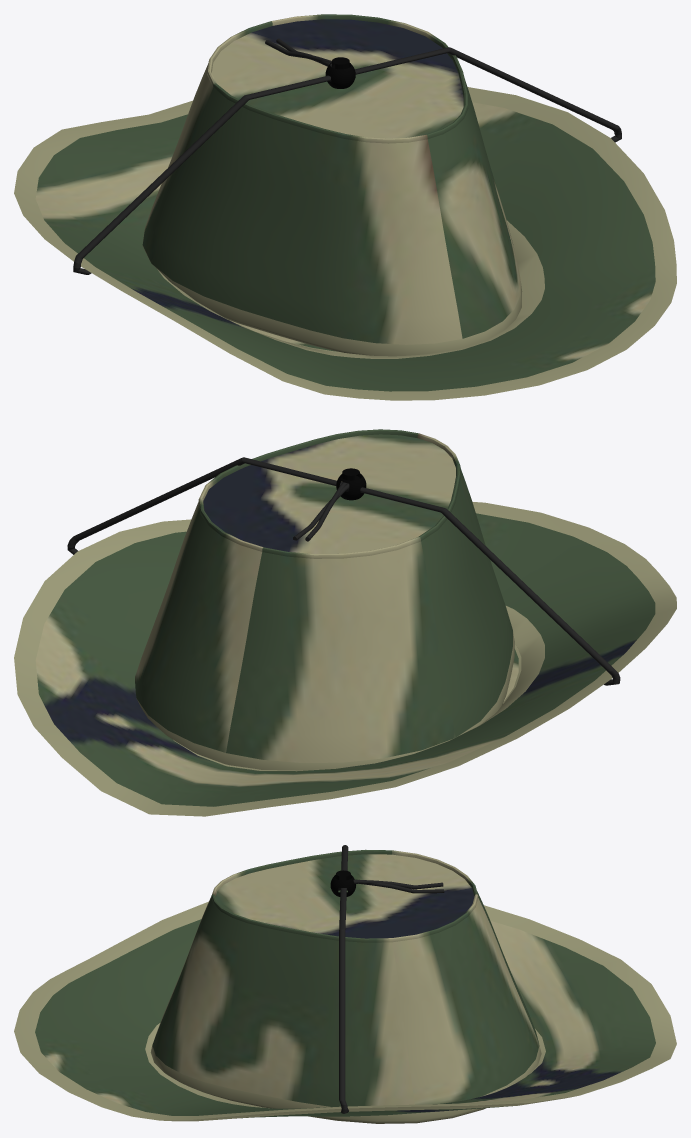
File: cap.fbx
3 renders of one model, top to bottom at view 1: azimuth 30°, elevation 25°; view 2: azimuth 150°, elevation 25°; view 3: azimuth 270°, elevation 25°, orthographic. The views are drawn at different scales.
Parts seen in each view (by area): view 1: Circle.001, Cylinder.002; view 2: Circle.001, Cylinder.002; view 3: Circle.001, Cylinder.002.
Boxes of the visible parts, x1=… form: Circle.001: x1=14, y1=14, x2=676, y2=400; Cylinder.002: x1=73, y1=38, x2=621, y2=274; Circle.001: x1=14, y1=429, x2=676, y2=816; Cylinder.002: x1=67, y1=457, x2=620, y2=685; Circle.001: x1=14, y1=849, x2=676, y2=1123; Cylinder.002: x1=339, y1=845, x2=444, y2=1113.
Size of the model in its own units: 301 by 113 by 371.
